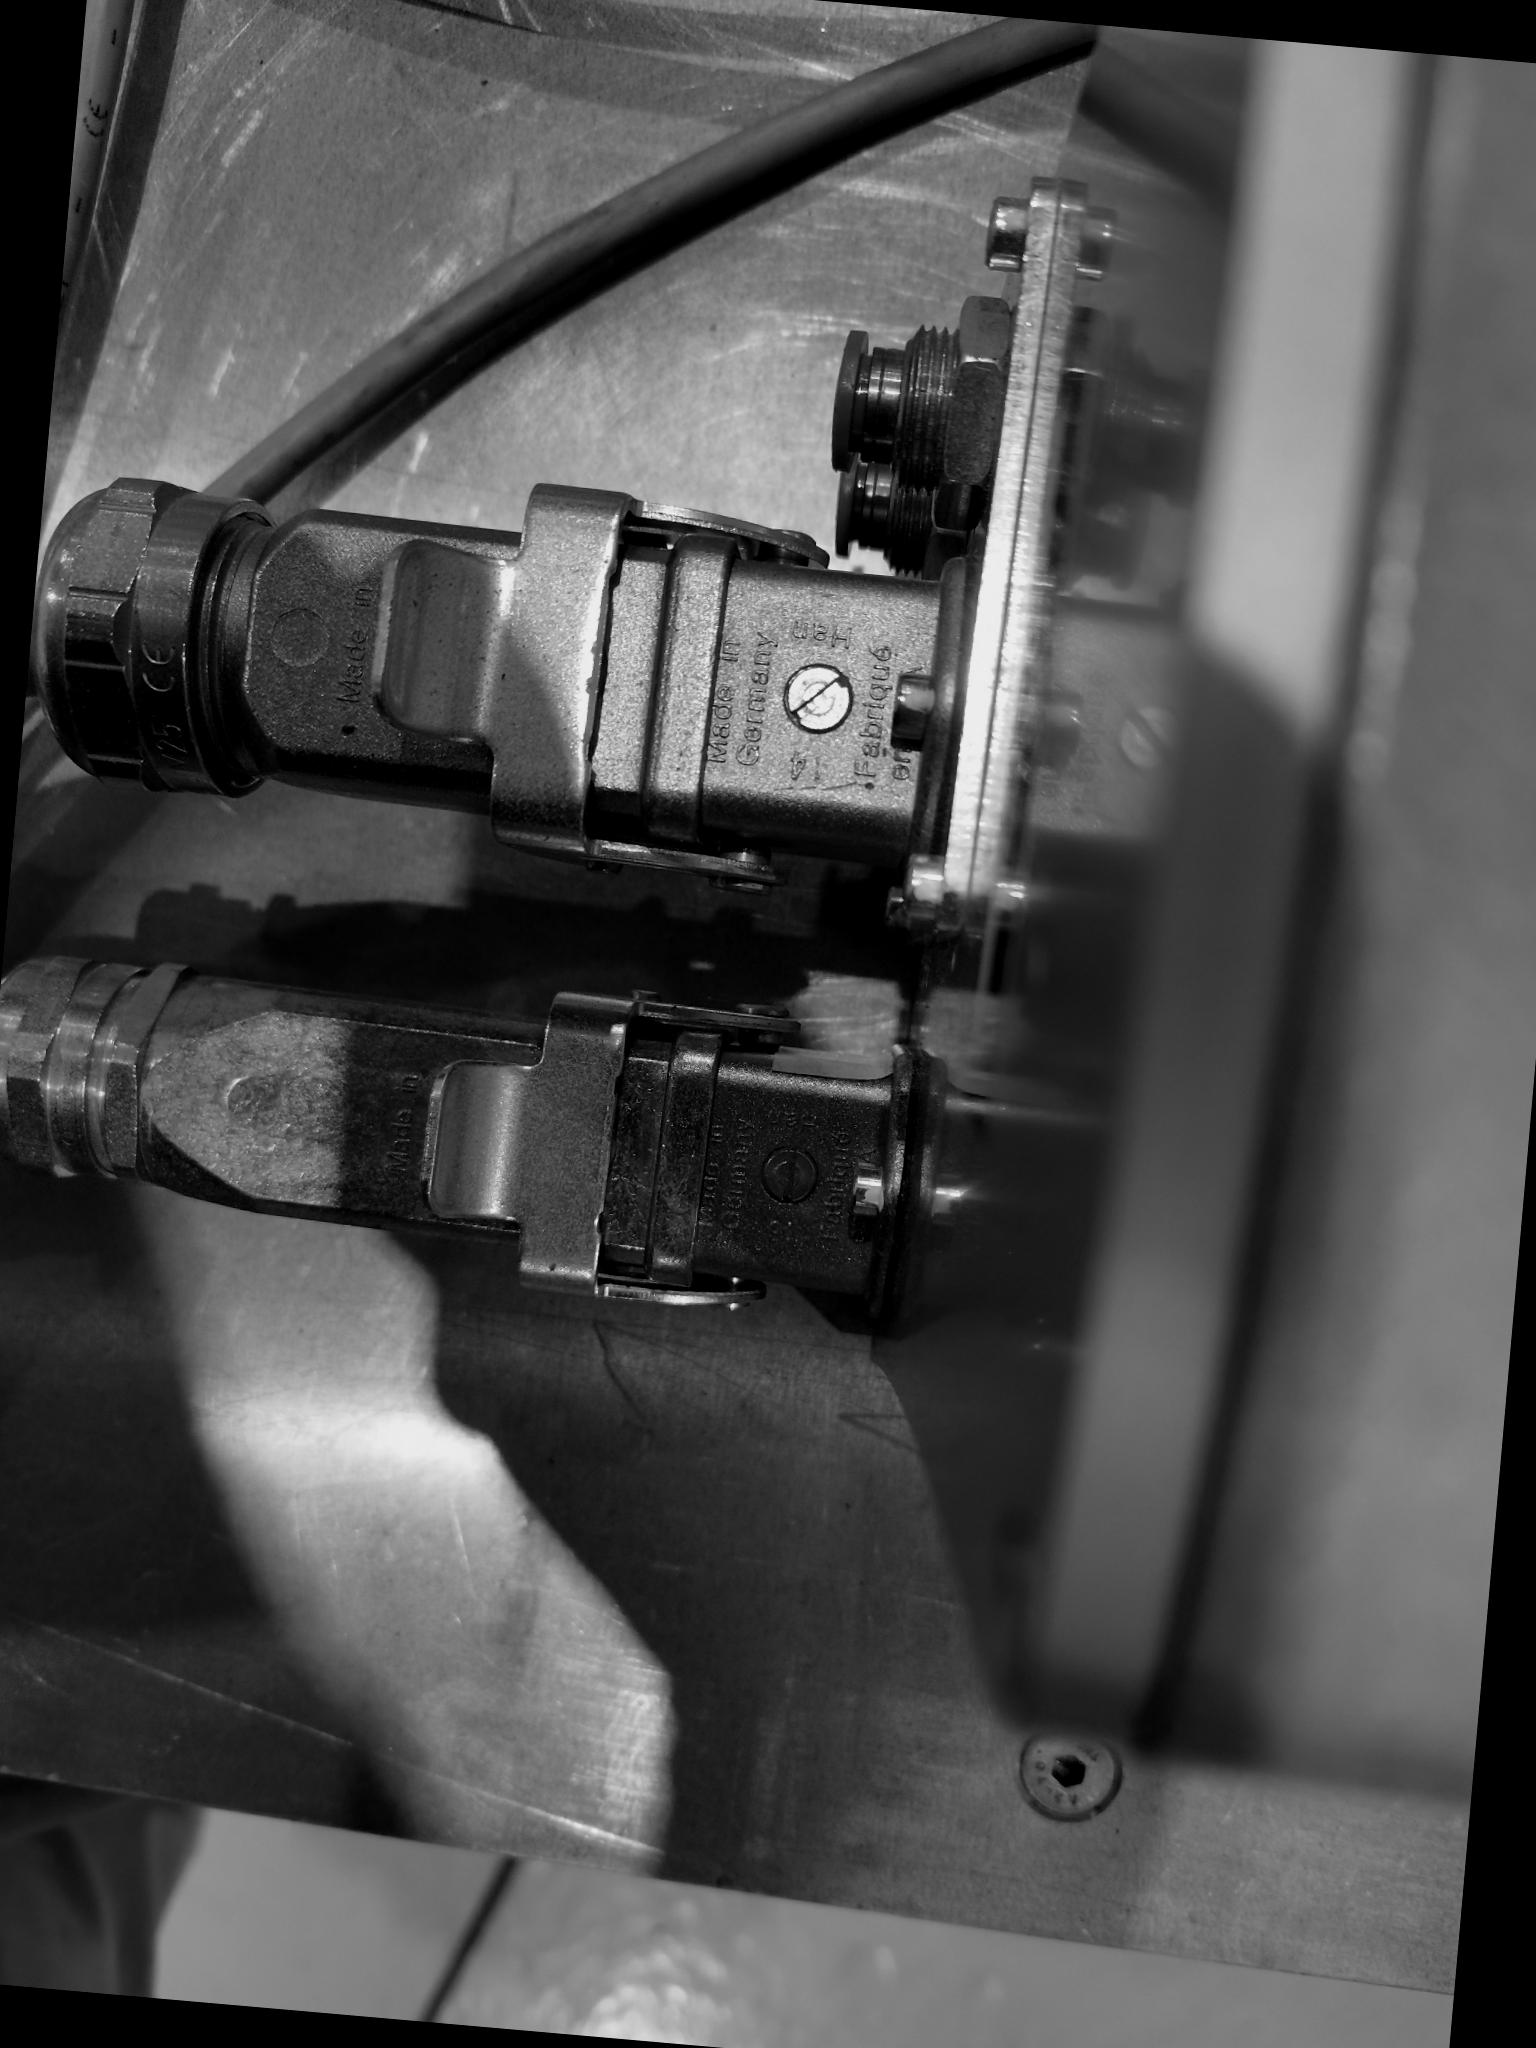allen: (1007, 1710, 1133, 1838)
slotted: (776, 654, 861, 740), (750, 1138, 826, 1214)
